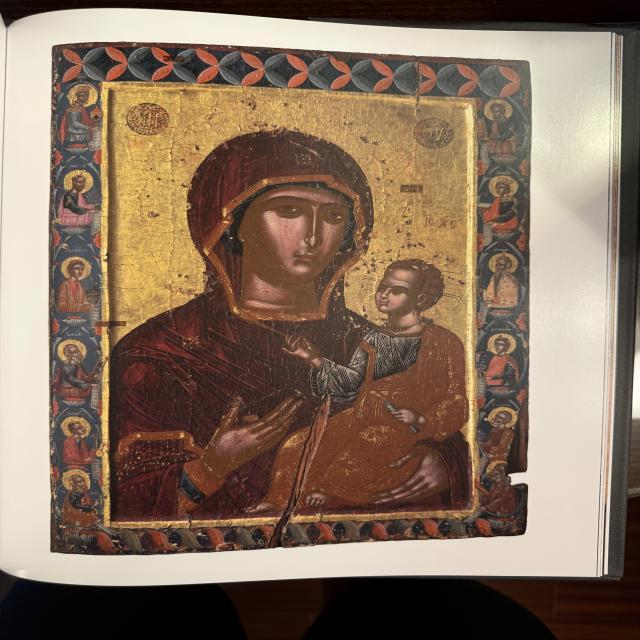aura: (484, 96, 519, 124), (68, 83, 102, 109), (60, 416, 95, 440), (491, 174, 521, 202), (63, 258, 95, 283), (56, 340, 91, 362), (63, 471, 95, 495), (65, 170, 95, 194), (489, 407, 519, 431), (490, 334, 518, 359), (491, 254, 520, 276), (489, 459, 513, 483)
book: (477, 201, 494, 214)
christ_child: (260, 256, 470, 493)
christ_hand: (275, 326, 343, 383)
crown: (72, 83, 96, 95), (494, 176, 520, 186)
king: (56, 74, 108, 154)
mary_and_child: (114, 128, 475, 514)
queen: (481, 174, 526, 234)
scroll: (373, 399, 435, 437), (88, 302, 108, 336), (479, 137, 496, 171), (475, 452, 497, 478), (88, 126, 108, 154), (91, 206, 107, 236), (92, 380, 107, 412), (477, 299, 493, 326), (94, 456, 106, 488), (481, 222, 495, 249), (476, 373, 490, 398)
